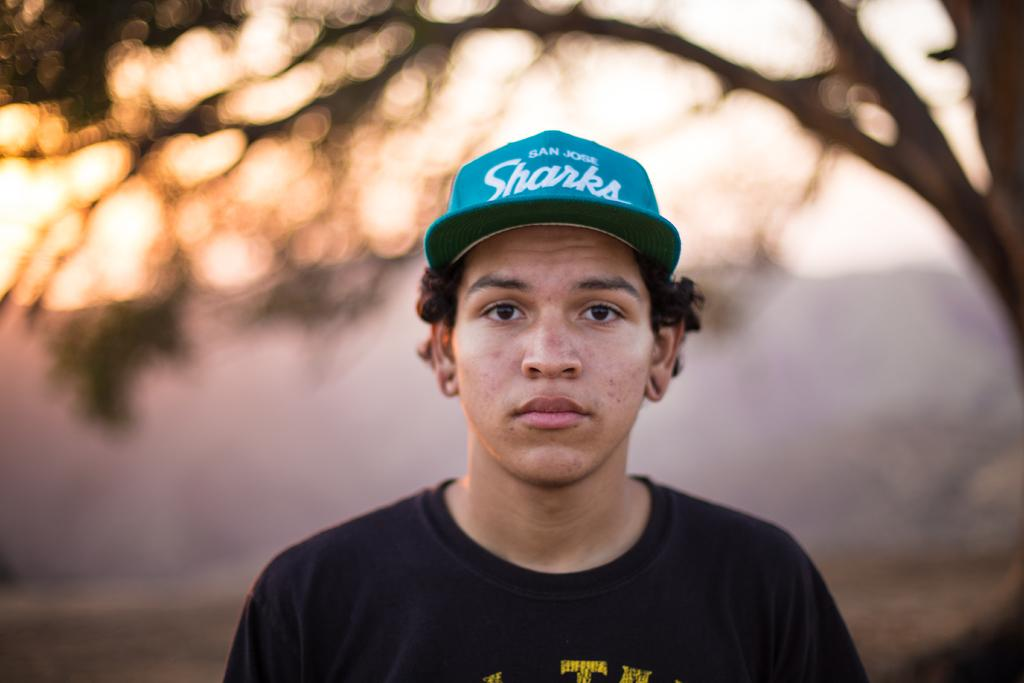Hat: (422, 125, 680, 283)
